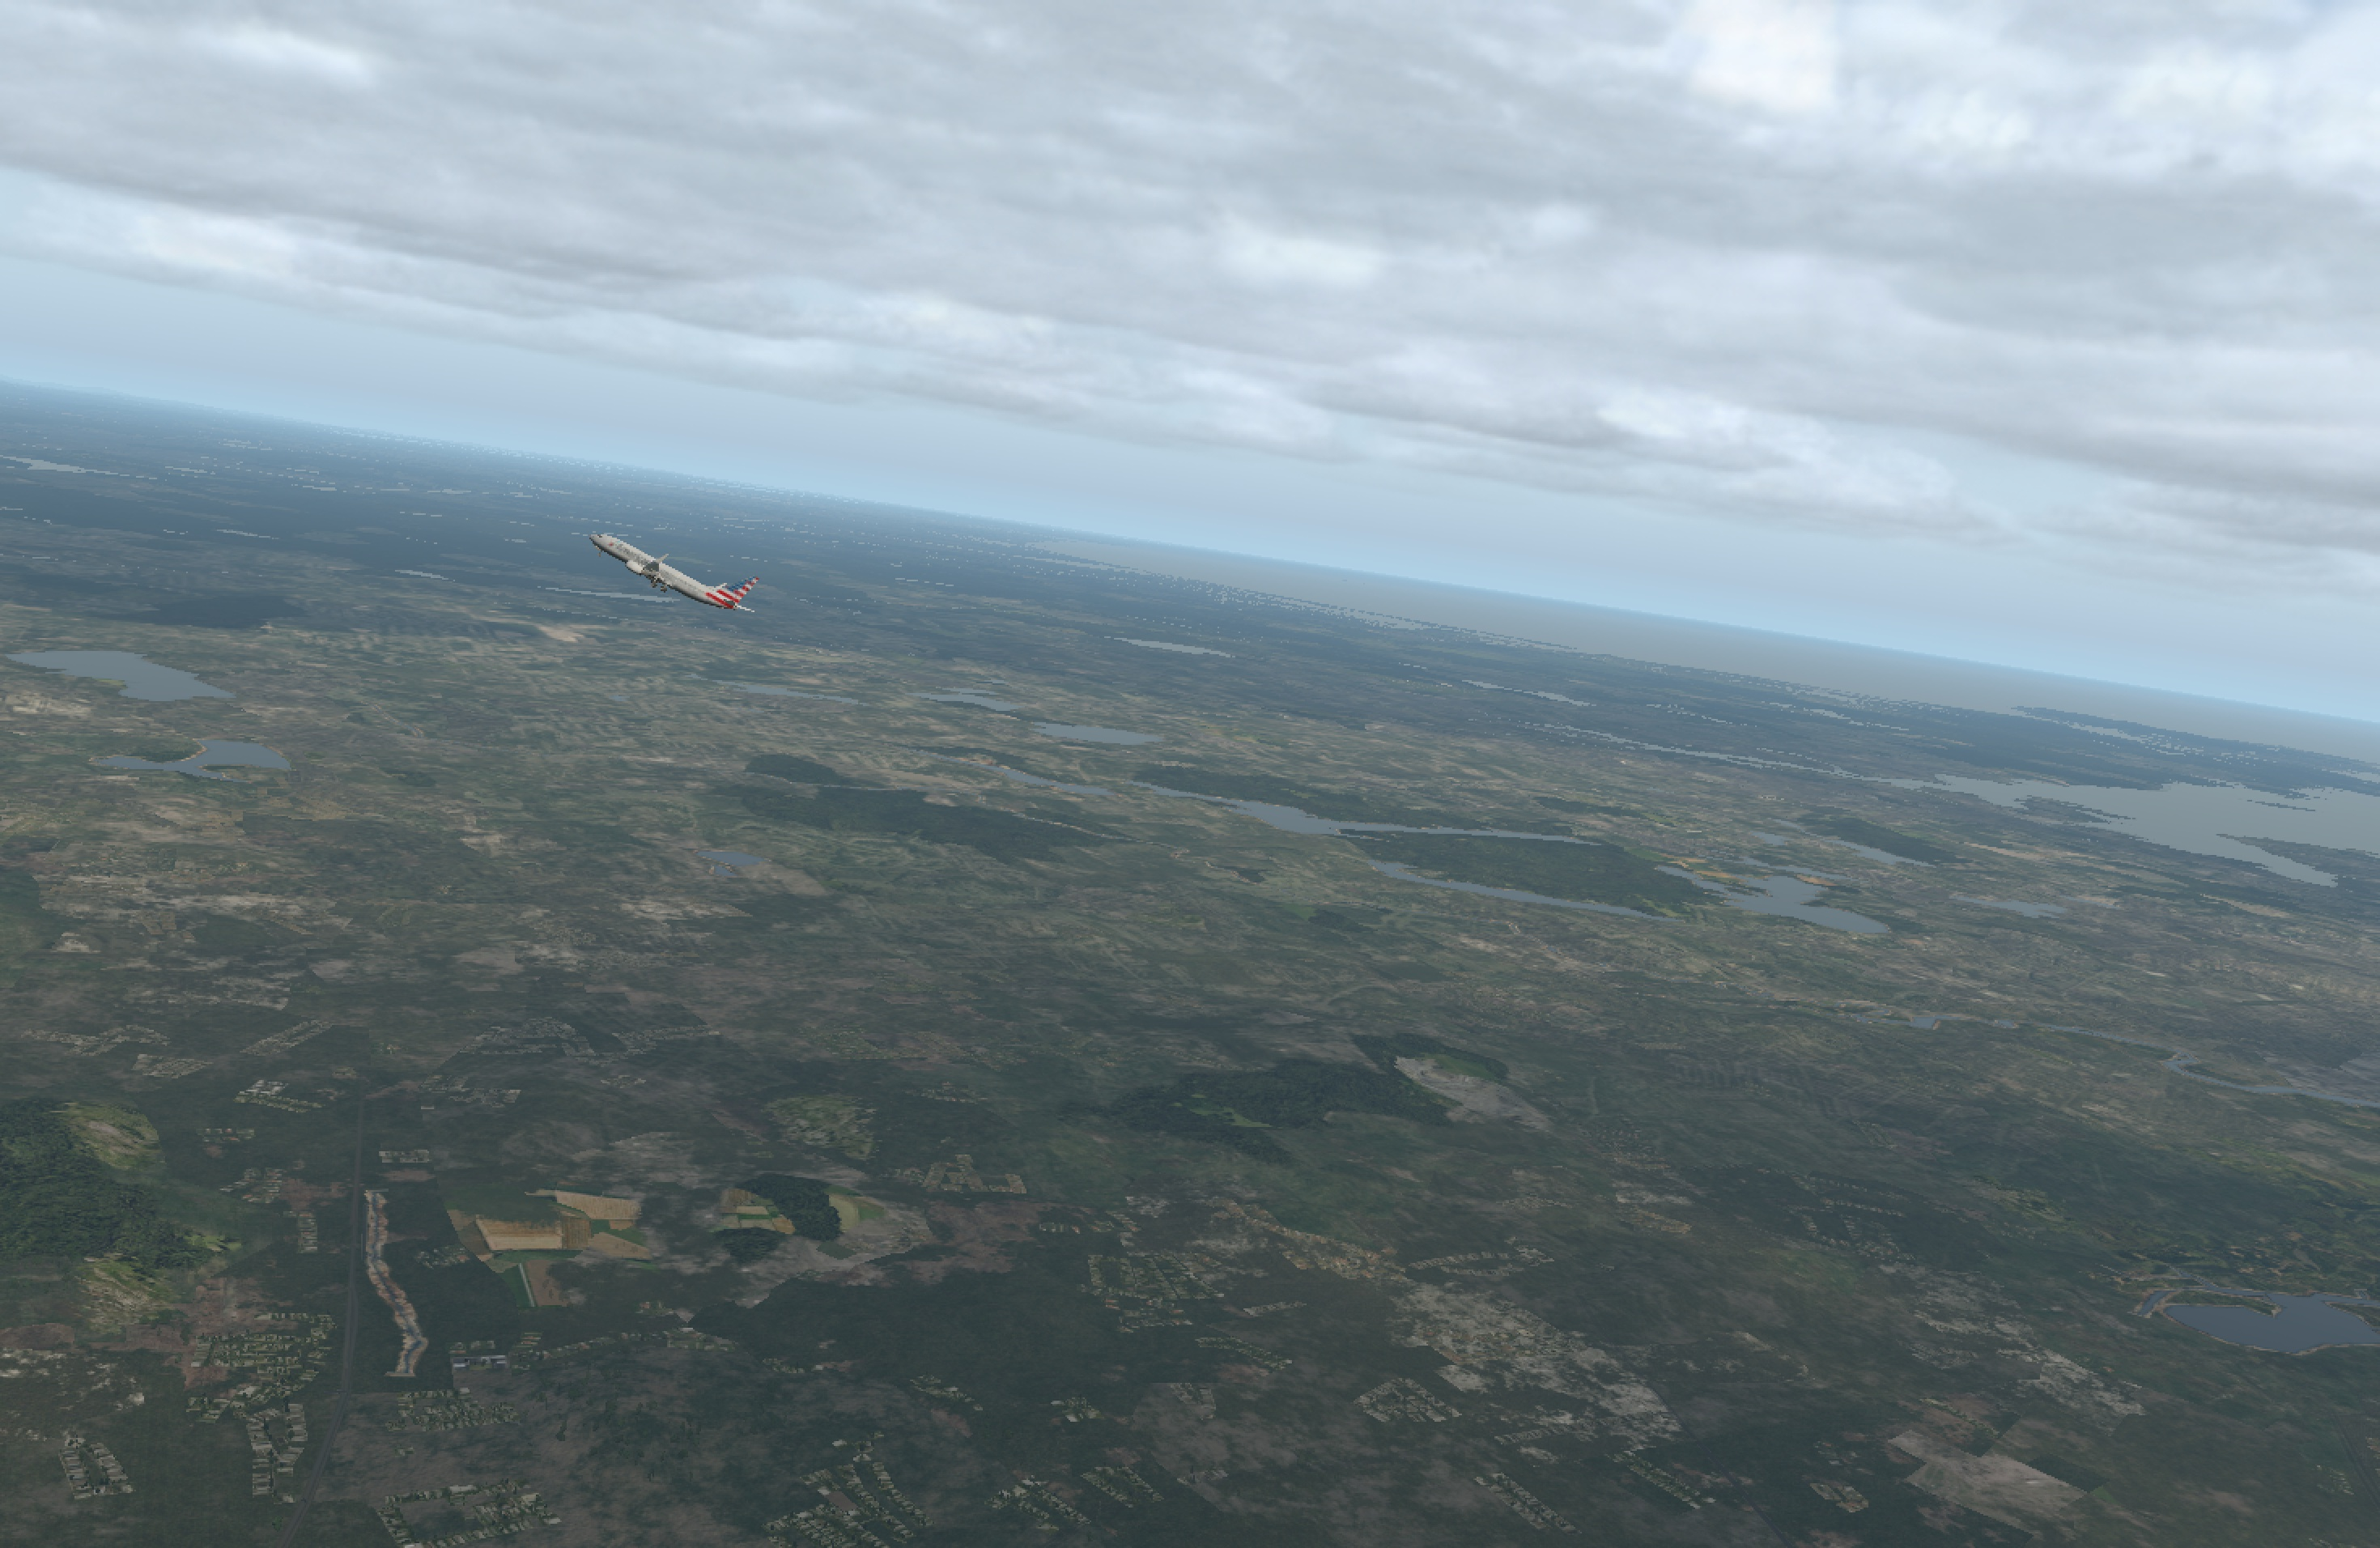aircraft: (571, 541, 746, 607)
